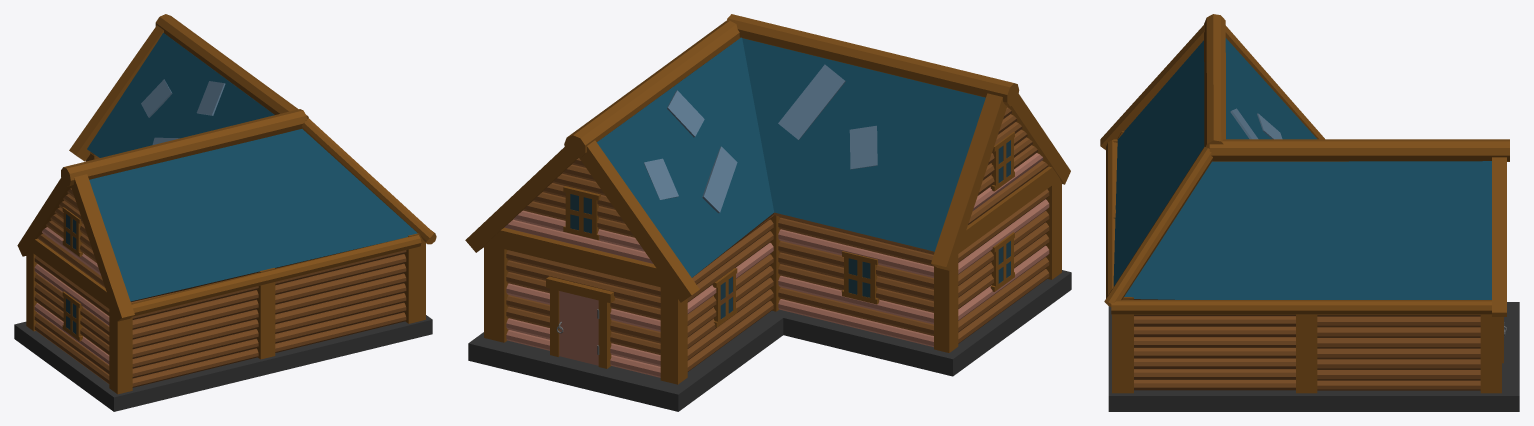
Rendered from House_1.fbx.
The picture shows the model from 3 angles, left to right: view 1: azimuth 30°, elevation 25°; view 2: azimuth 150°, elevation 25°; view 3: azimuth 270°, elevation 25°; orthographic projection. The views are drawn at different scales.
Parts seen in each view (by area): view 1: Cube.022; view 2: Cube.022; view 3: Cube.022.
Part boxes in pixels (x1,y1,x2,y2): Cube.022: [14, 14, 436, 411]; Cube.022: [465, 14, 1071, 411]; Cube.022: [1100, 14, 1519, 411].
Size of the model in its own units: 6927 by 4220 by 7024.
